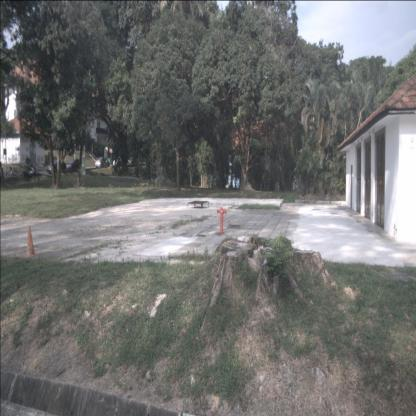cone: (25, 225, 37, 257)
